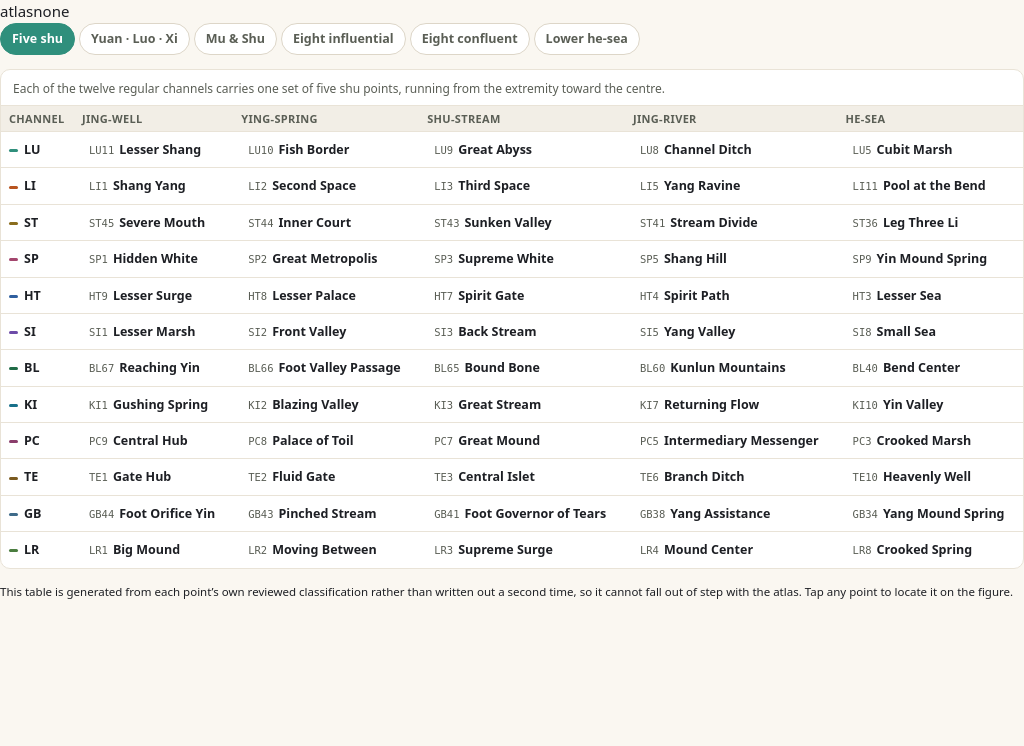
Test: specific-point matrix → atlas handoff › lights both halves of a pair, which no single-point focus can do
Click the tab "Mu & Shu" at (235, 39), box 194,23 -> 277,55
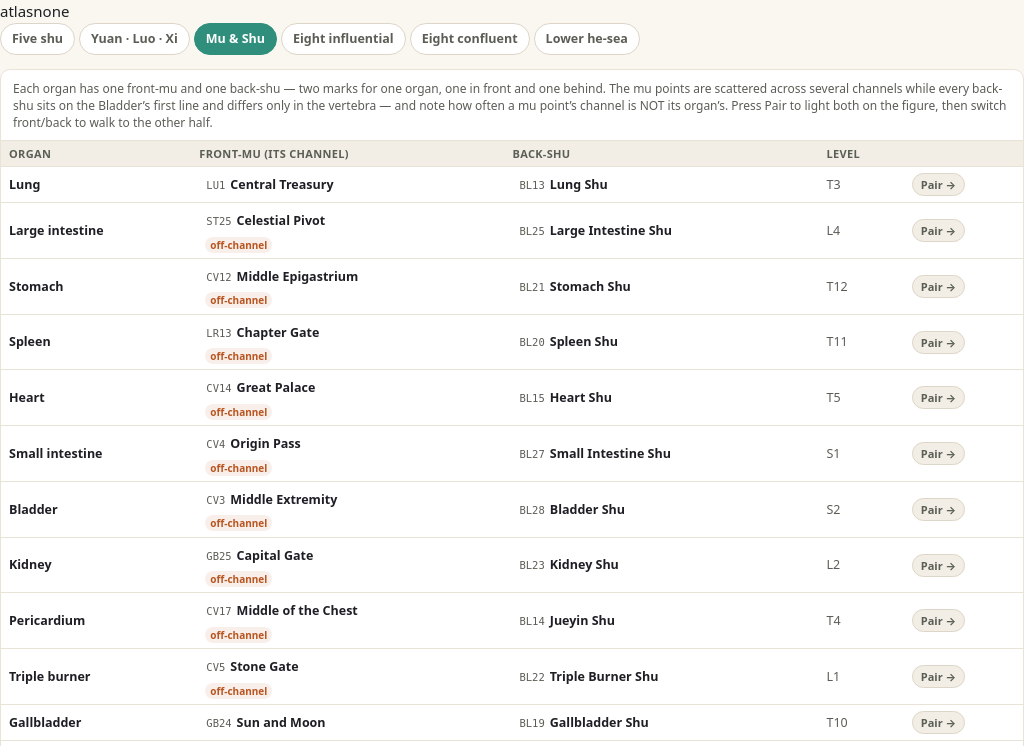
Expected: the number of buttons "Pair →" is 12
Click the button "Pair →" next to "T11" at (938, 342), box 912,331 -> 965,354
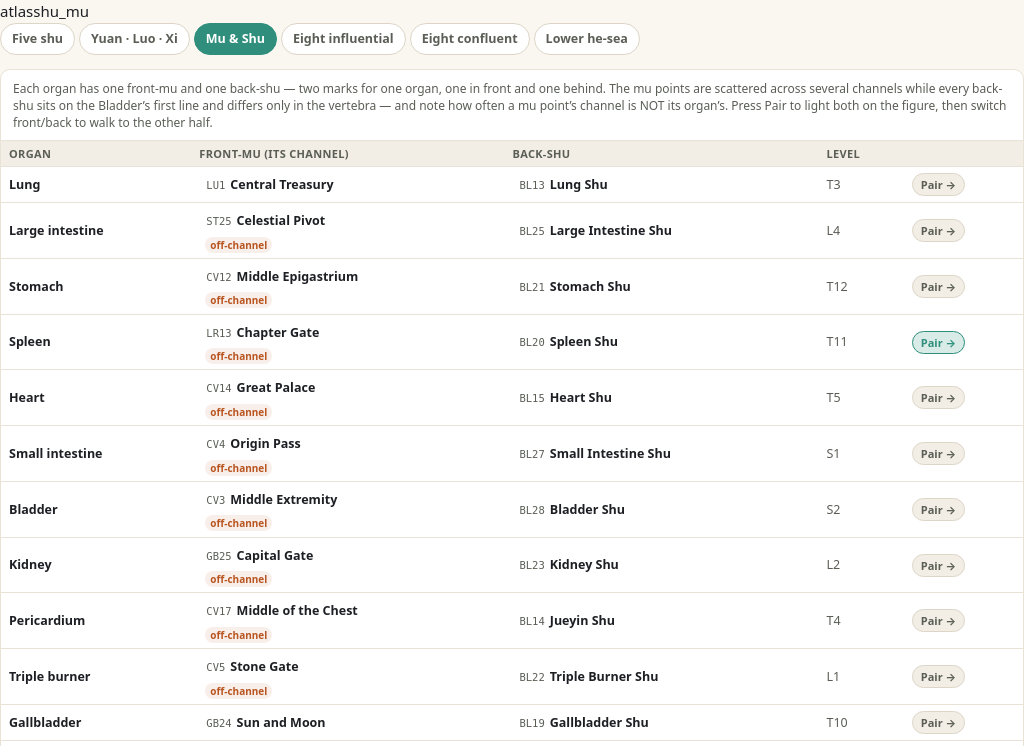
Expected: the text with test id "route" reads "atlas", 0,1 -> 33,21
Expected: the text with test id "focus" reads "shu_mu", 33,1 -> 89,21
